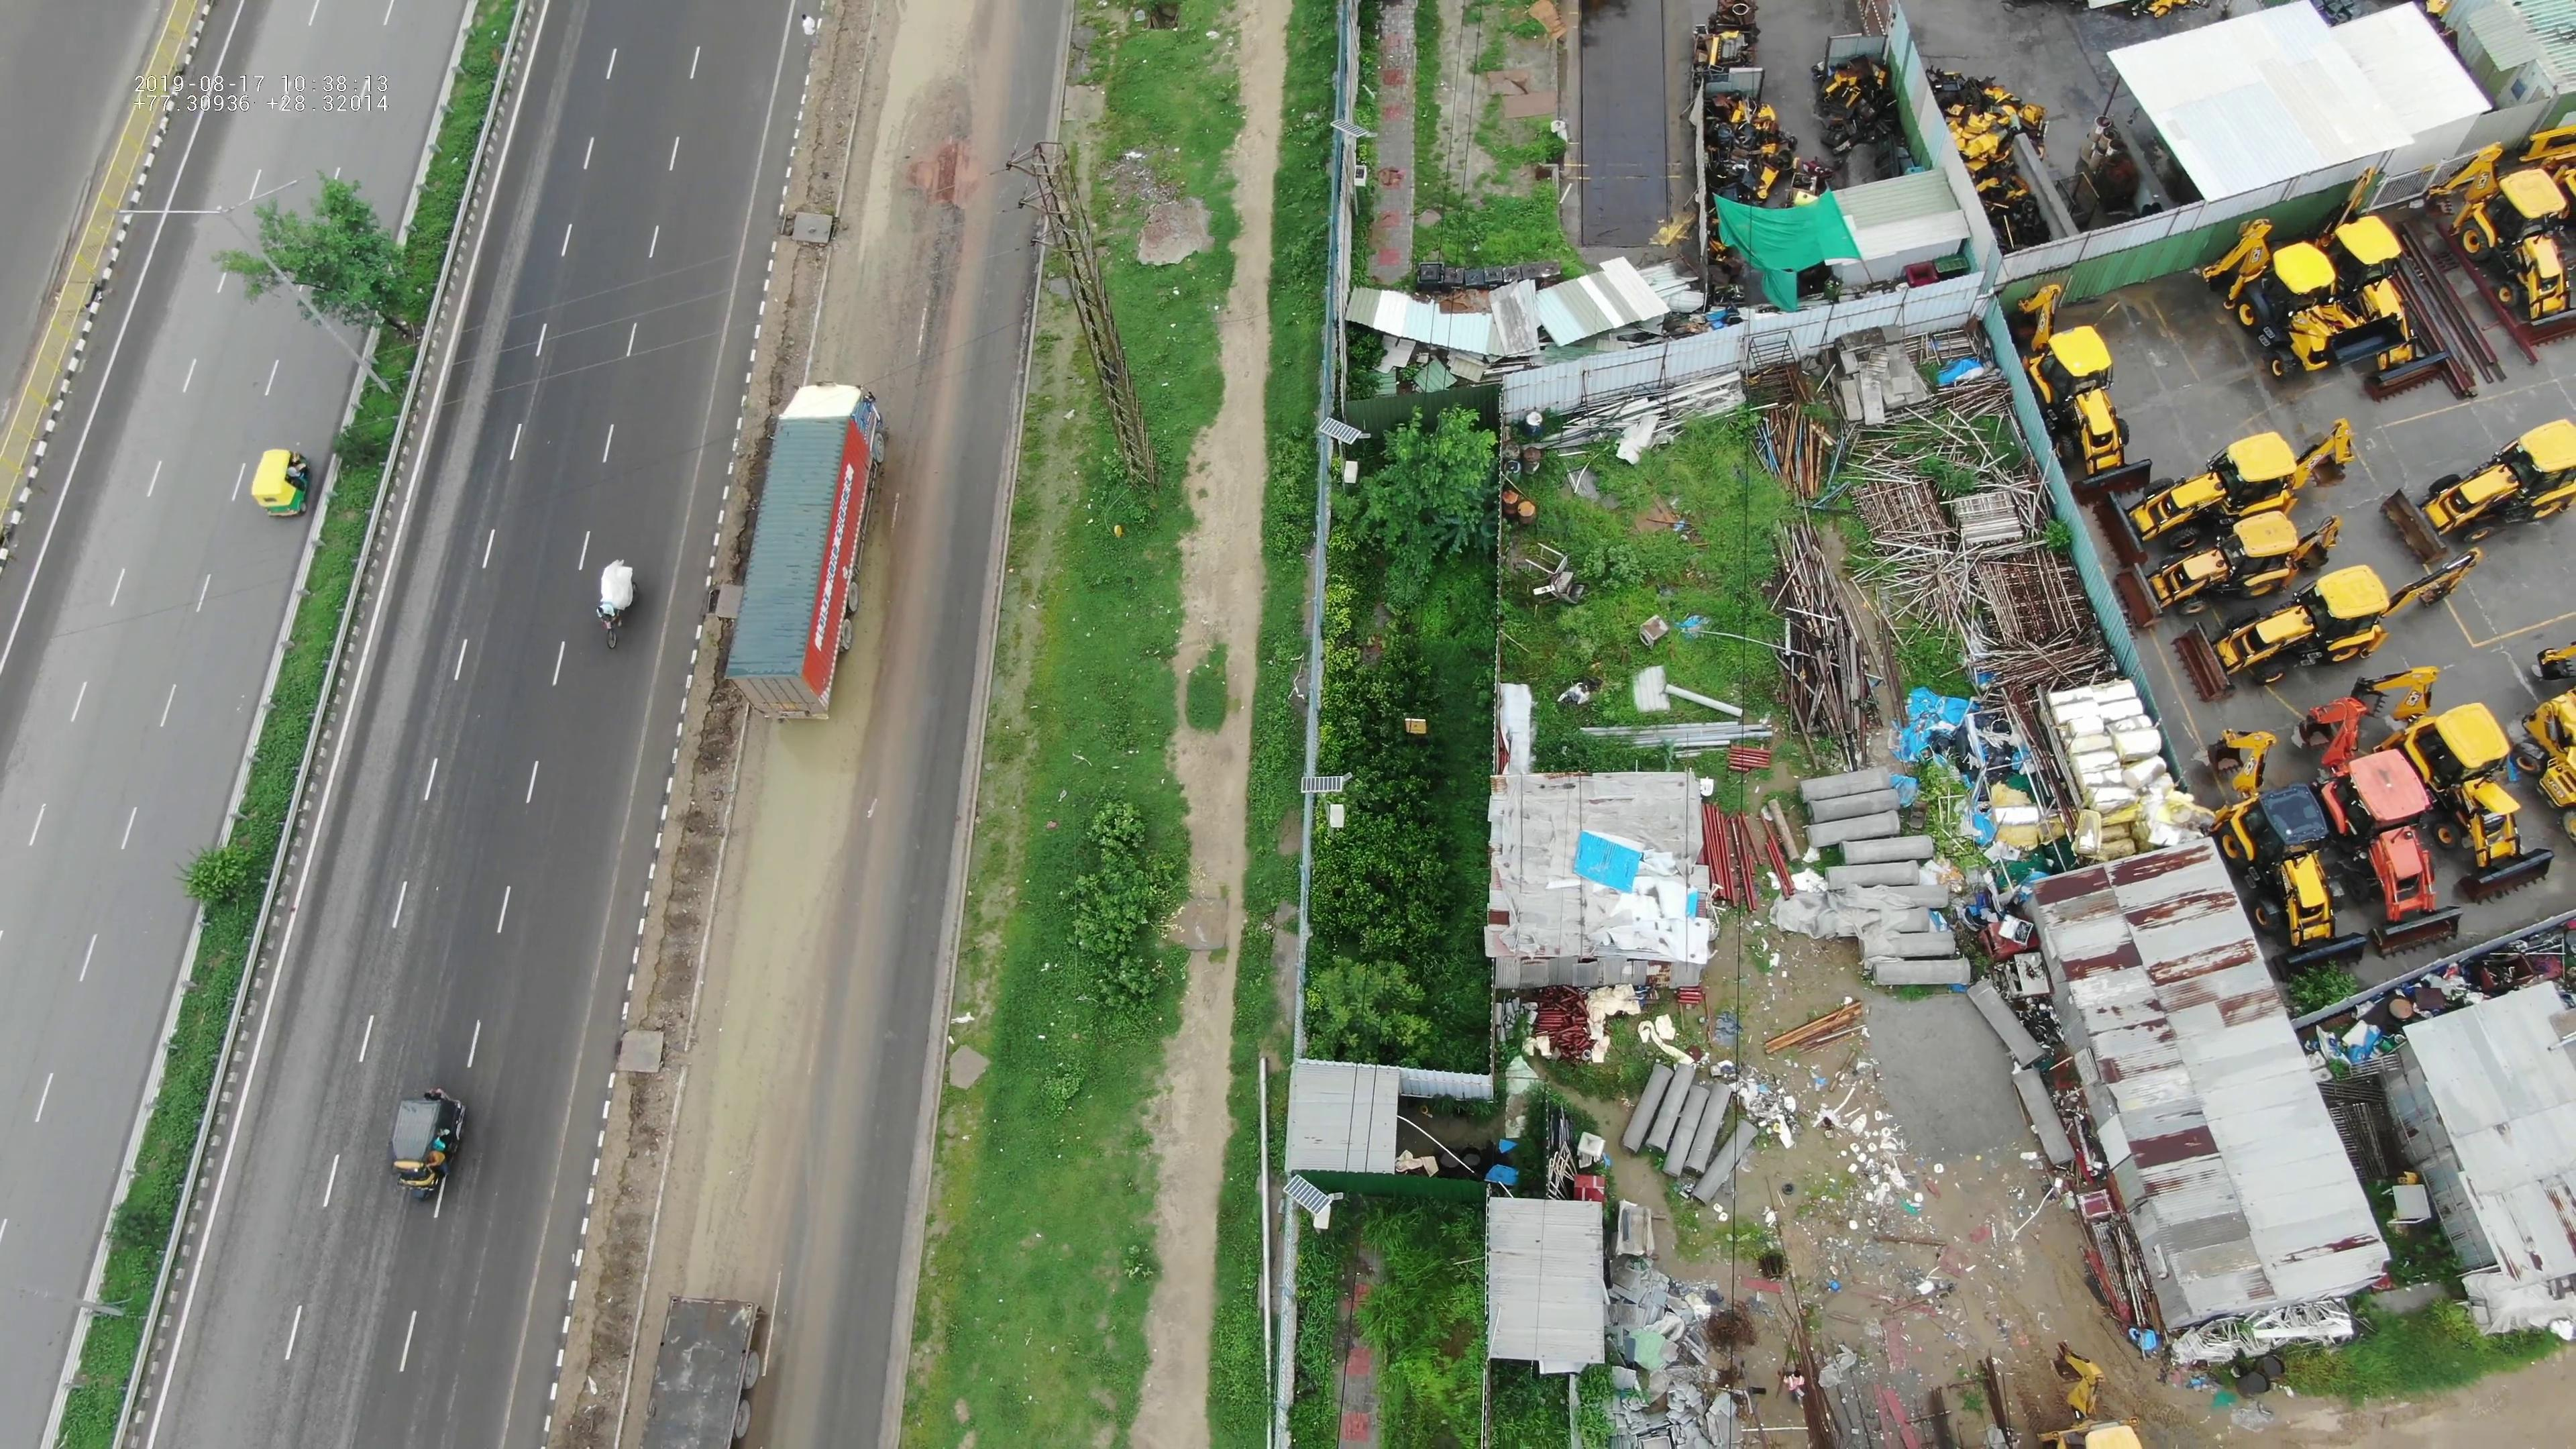Muddy_road: (681, 722, 853, 1267), (833, 32, 987, 364)
